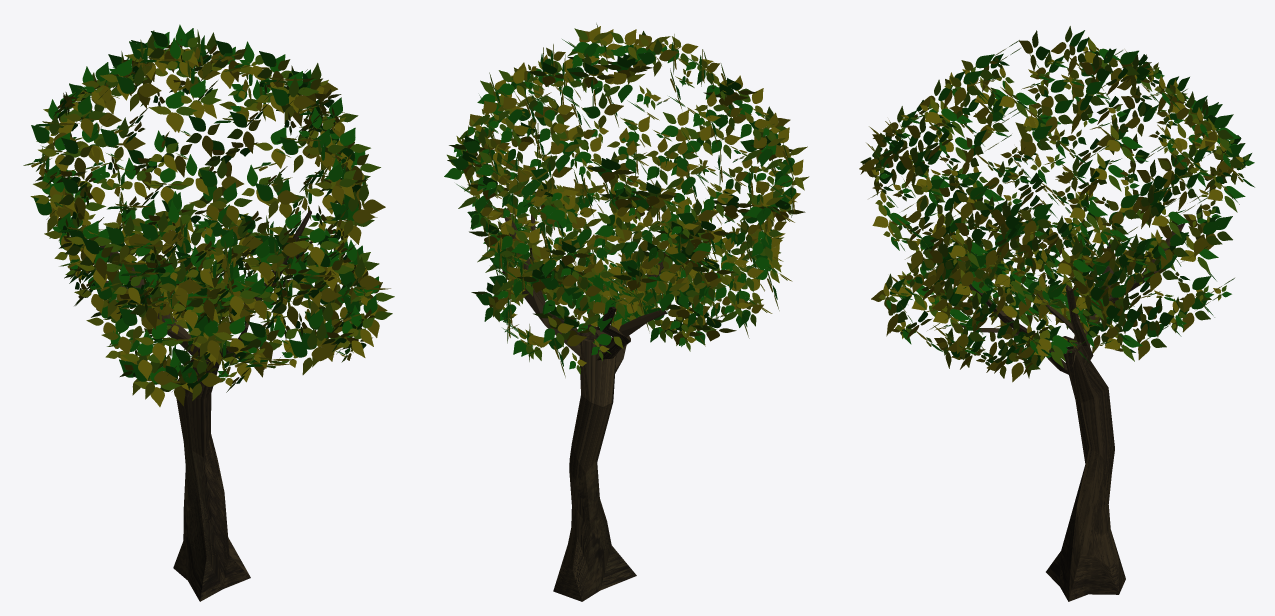
Rendered from SmallTree_03.fbx.
3 renders of one model, left to right at view 1: azimuth 30°, elevation 25°; view 2: azimuth 150°, elevation 25°; view 3: azimuth 270°, elevation 25°, orthographic. The views are drawn at different scales.
Parts seen in each view (by area): view 1: leaf.001, Cylinder.003; view 2: leaf.001, Cylinder.003; view 3: leaf.001, Cylinder.003.
Part boxes in pixels (x1=…): leaf.001: x1=23, y1=24, x2=394, y2=406; Cylinder.003: x1=81, y1=209, x2=313, y2=601; leaf.001: x1=444, y1=23, x2=809, y2=377; Cylinder.003: x1=502, y1=208, x2=676, y2=601; leaf.001: x1=859, y1=26, x2=1254, y2=382; Cylinder.003: x1=959, y1=223, x2=1184, y2=601.
Size of the model in its own units: 98.94 by 158 by 109.
